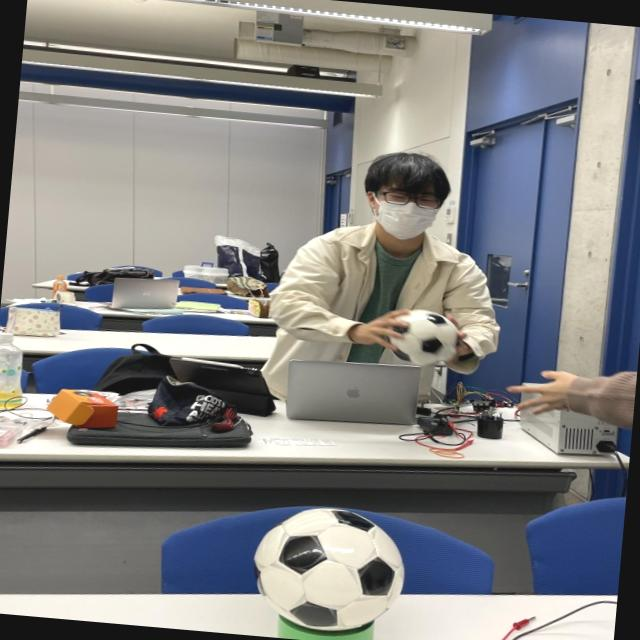Soccer Ball: (249, 504, 411, 638), (378, 307, 462, 368)
